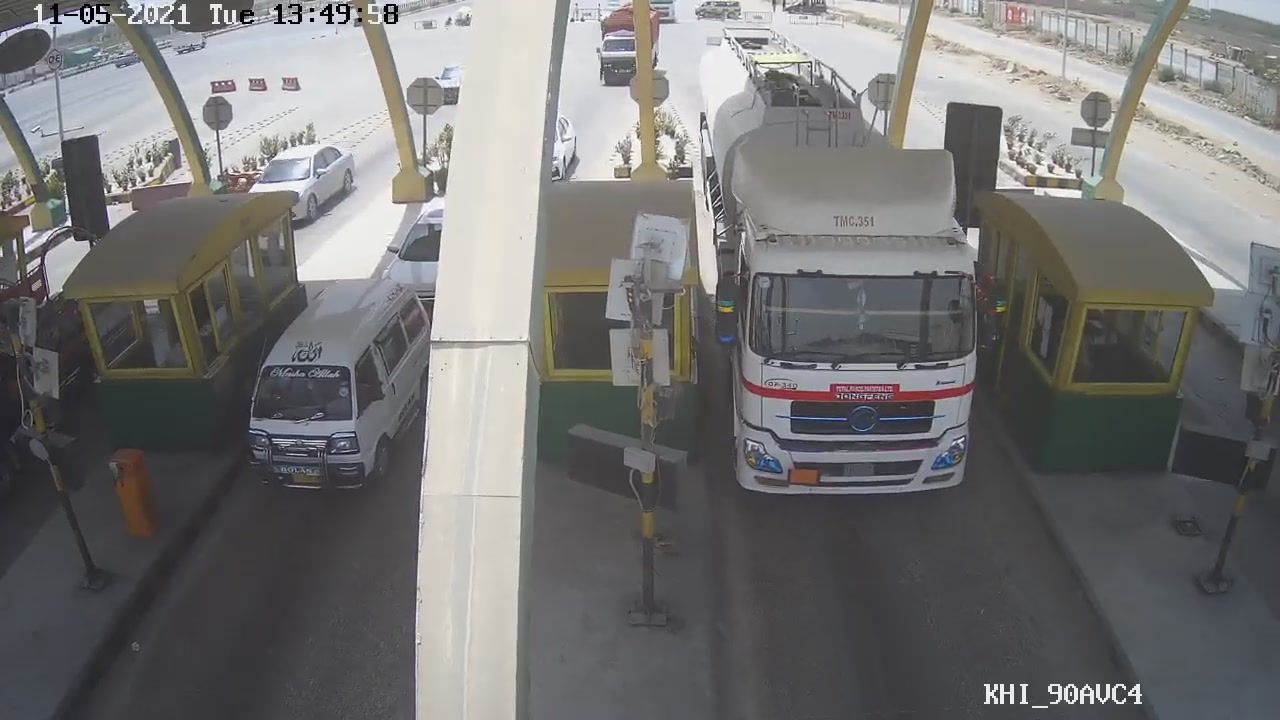F6: (692, 48, 997, 505)
